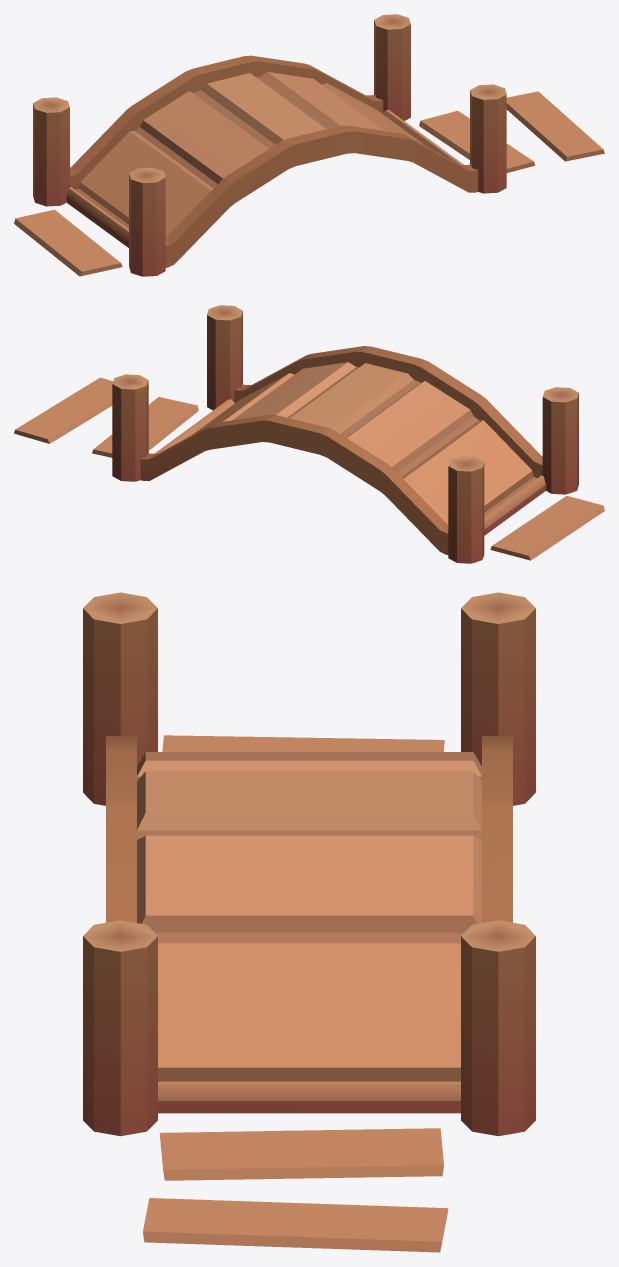
The model's file is LogBridge1.fbx.
The picture shows the model from 3 angles, top to bottom: view 1: azimuth 30°, elevation 25°; view 2: azimuth 150°, elevation 25°; view 3: azimuth 270°, elevation 25°; orthographic projection. The views are drawn at different scales.
Parts seen in each view (by area): view 1: Plane.268; view 2: Plane.268; view 3: Plane.268.
Boxes of the visible parts, box(x1,y1,x2,y2) form: Plane.268: box(14, 14, 604, 276); Plane.268: box(14, 305, 604, 563); Plane.268: box(83, 592, 535, 1252).
Bounding box in the file's own units: 889 × 154 × 334.
